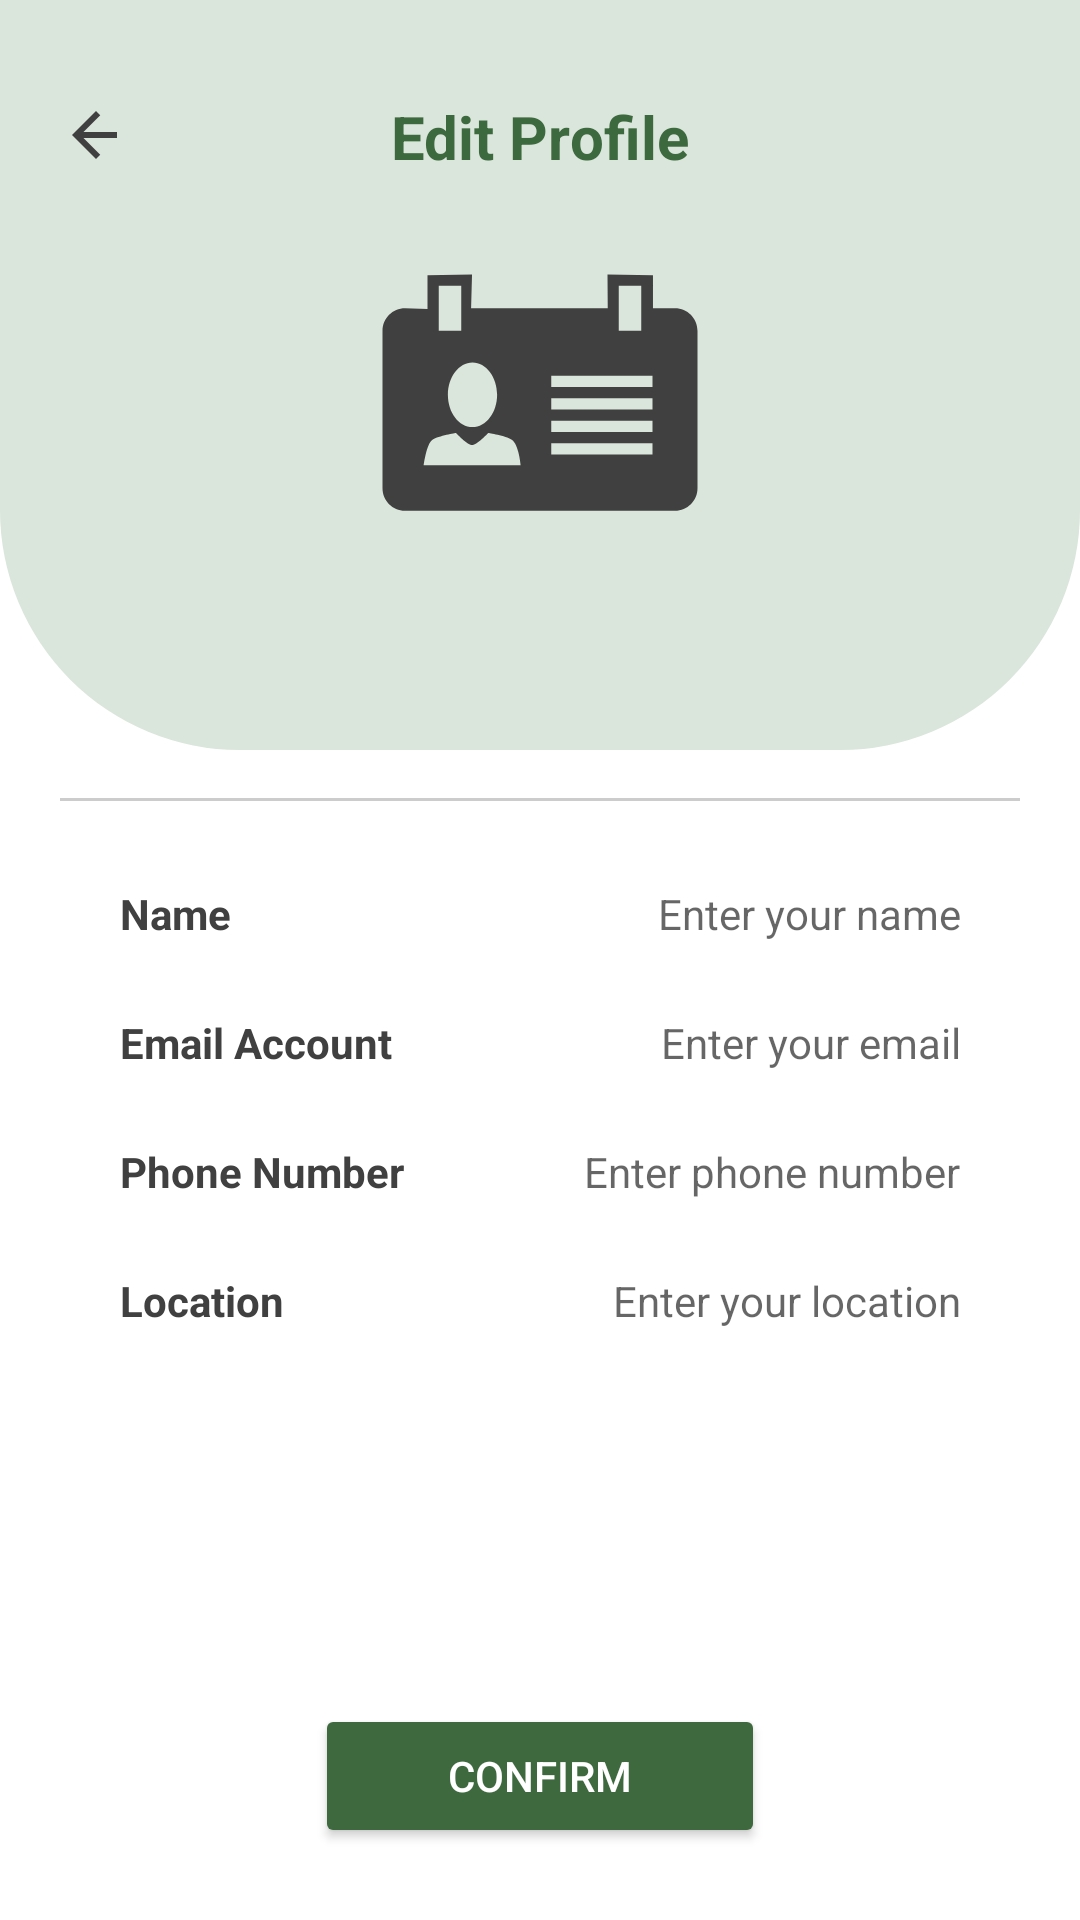

Locate icon controls on the screen. Image size 1080 x 1920, boxes as (x1, y1, x2, y2).
Back: (72, 111, 117, 159)
